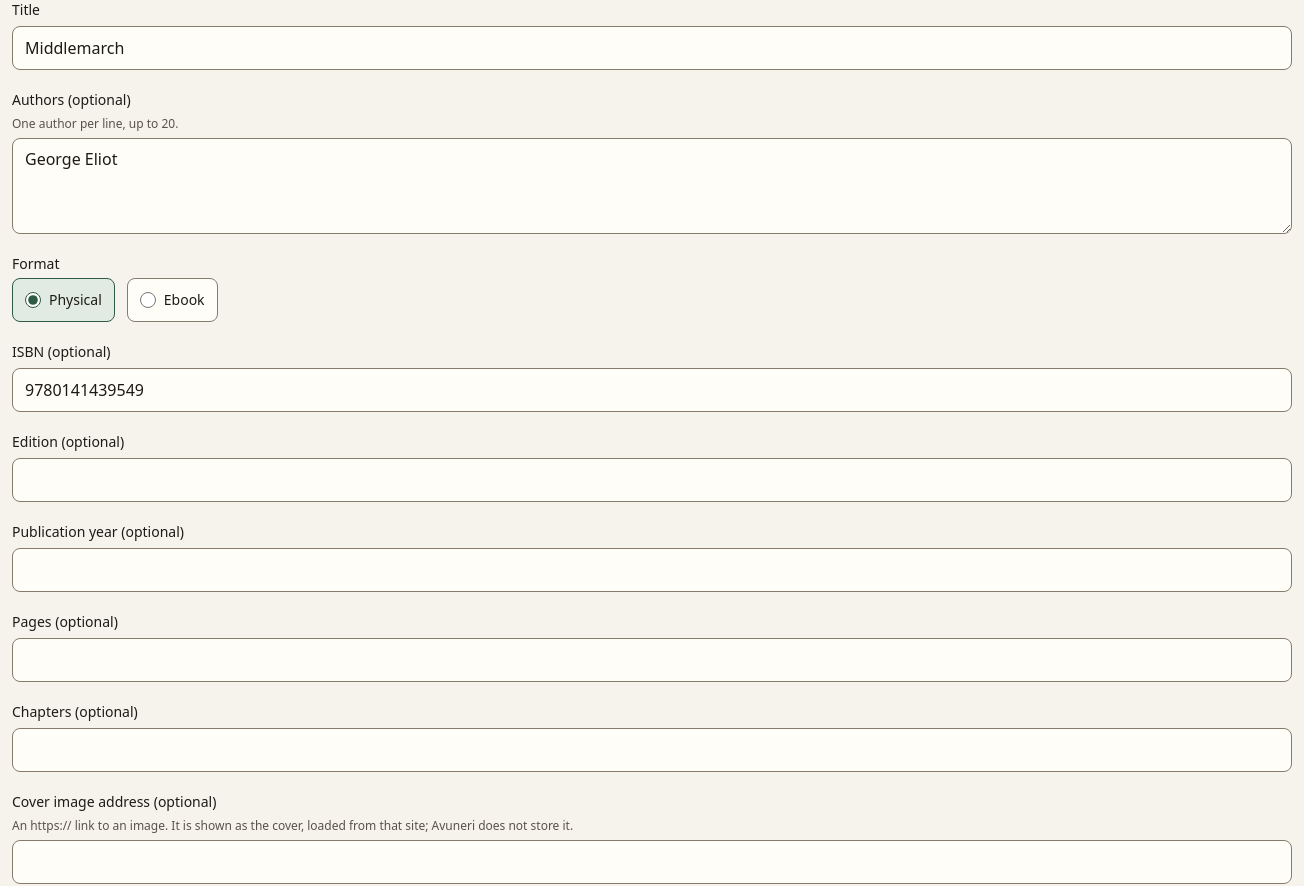
Test case: BookForm › clears a field with null and keeps edits through a format conflict
Clear the field labelled "ISBN (optional)": (652, 390) [12,368,1292,412]
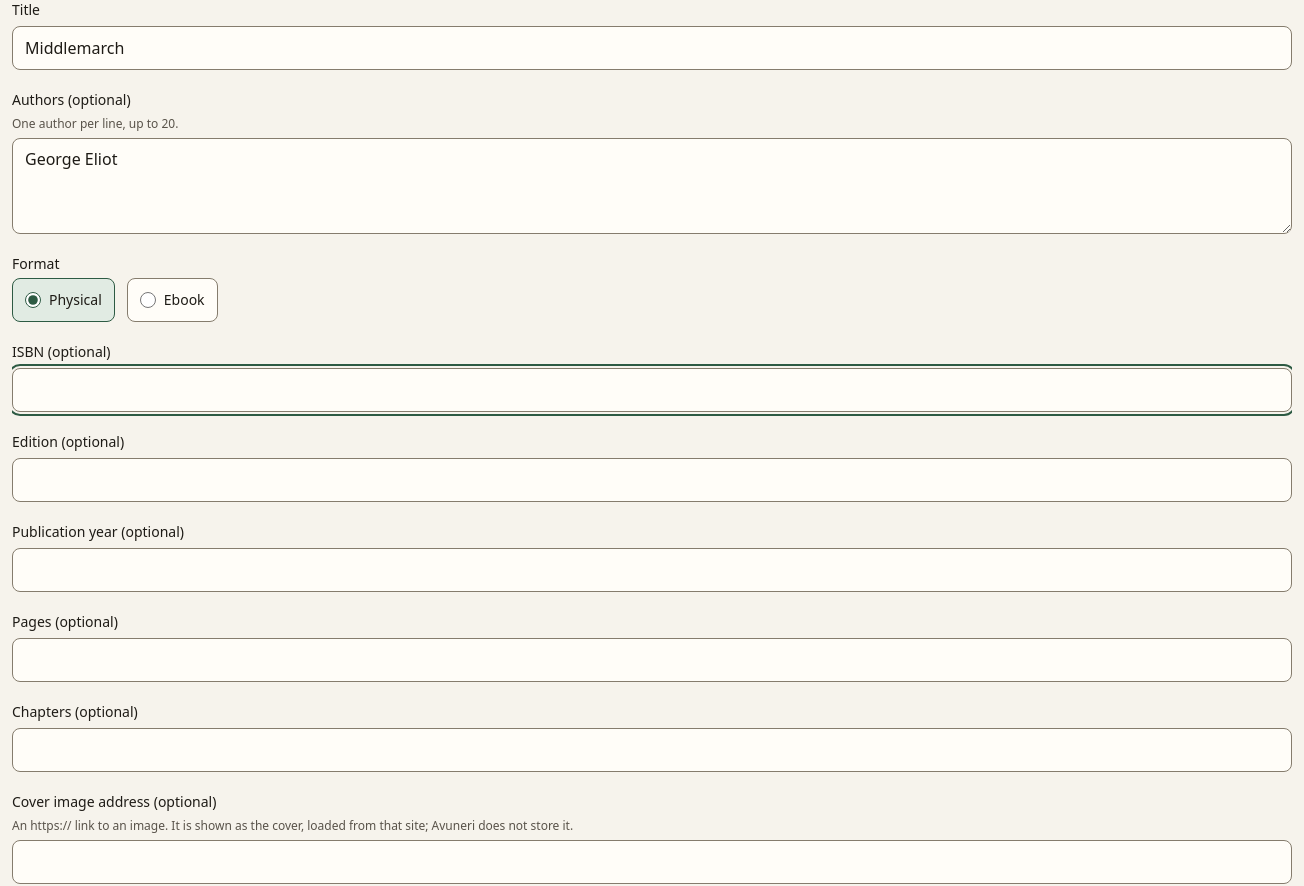
In the field labelled "Edition (optional)": (652, 480) [12,458,1292,502], type "Penguin"
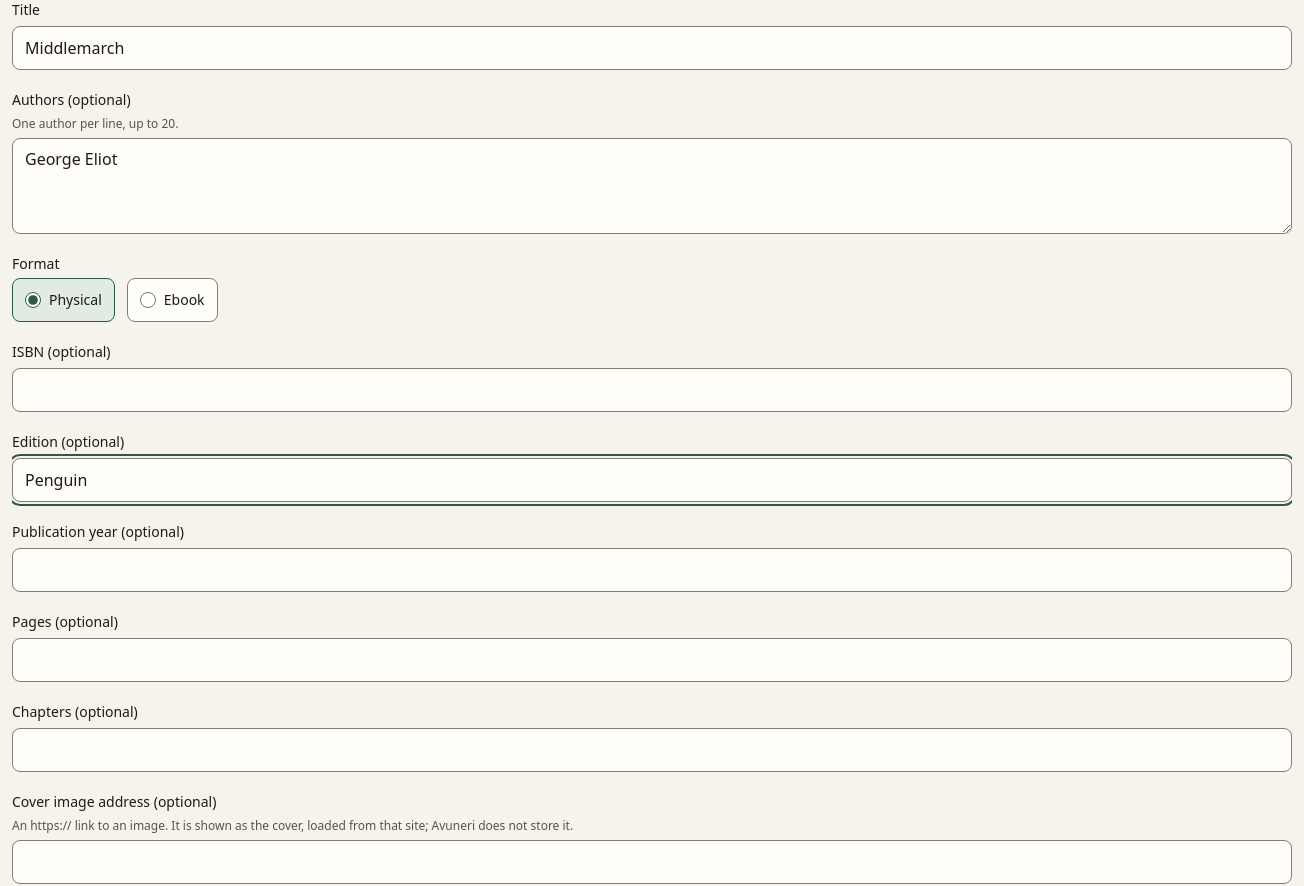
Click the radio button labelled "Ebook": click(148, 300) [140,292,156,308]
(page scrolled)
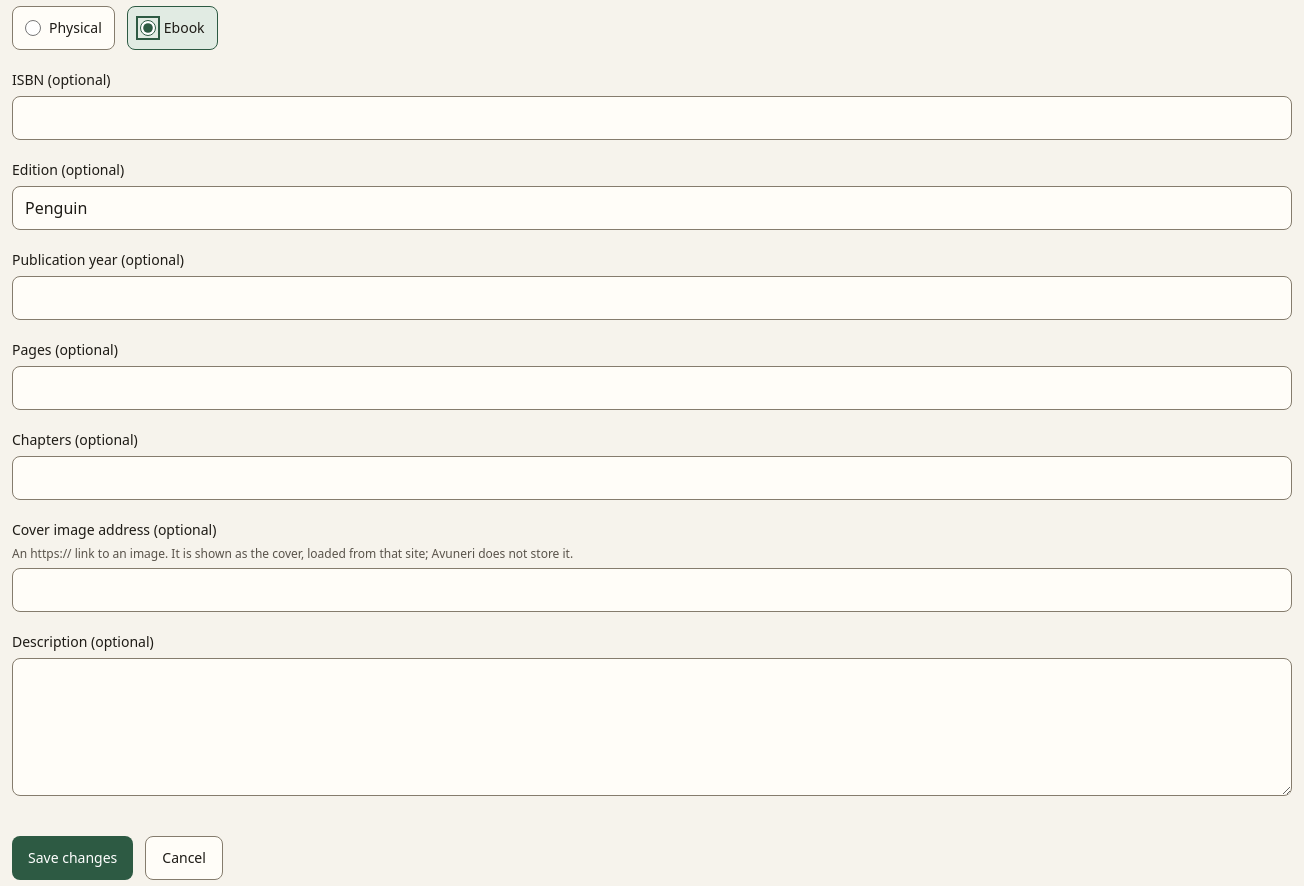
Click the button "Save changes": click(73, 858) [12,836,133,880]
(page scrolled)
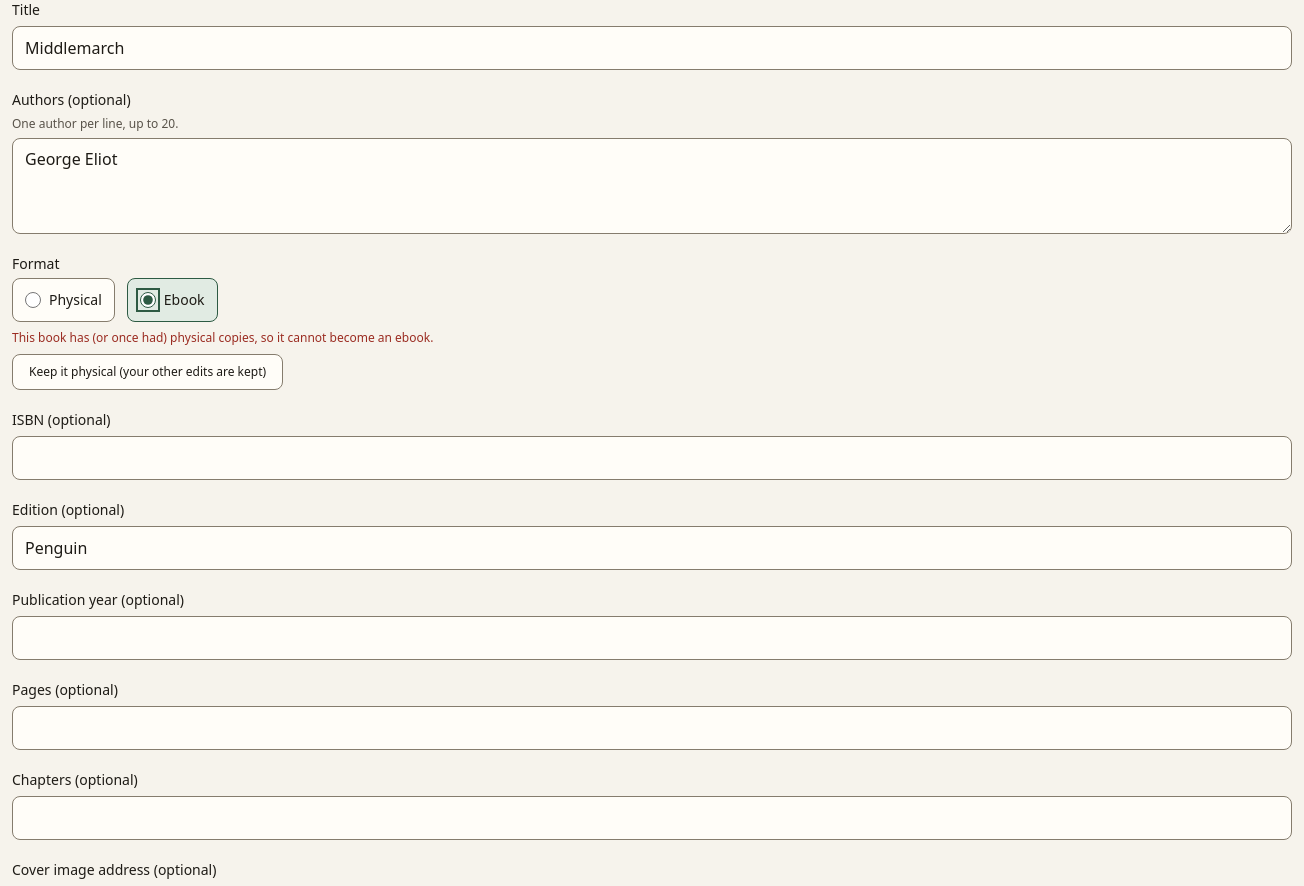
Now the text "cannot become an ebook" is shown, box [12,329,433,346]
Click the button "Keep it physical (your other edits are kept)": click(148, 372) [12,354,283,390]
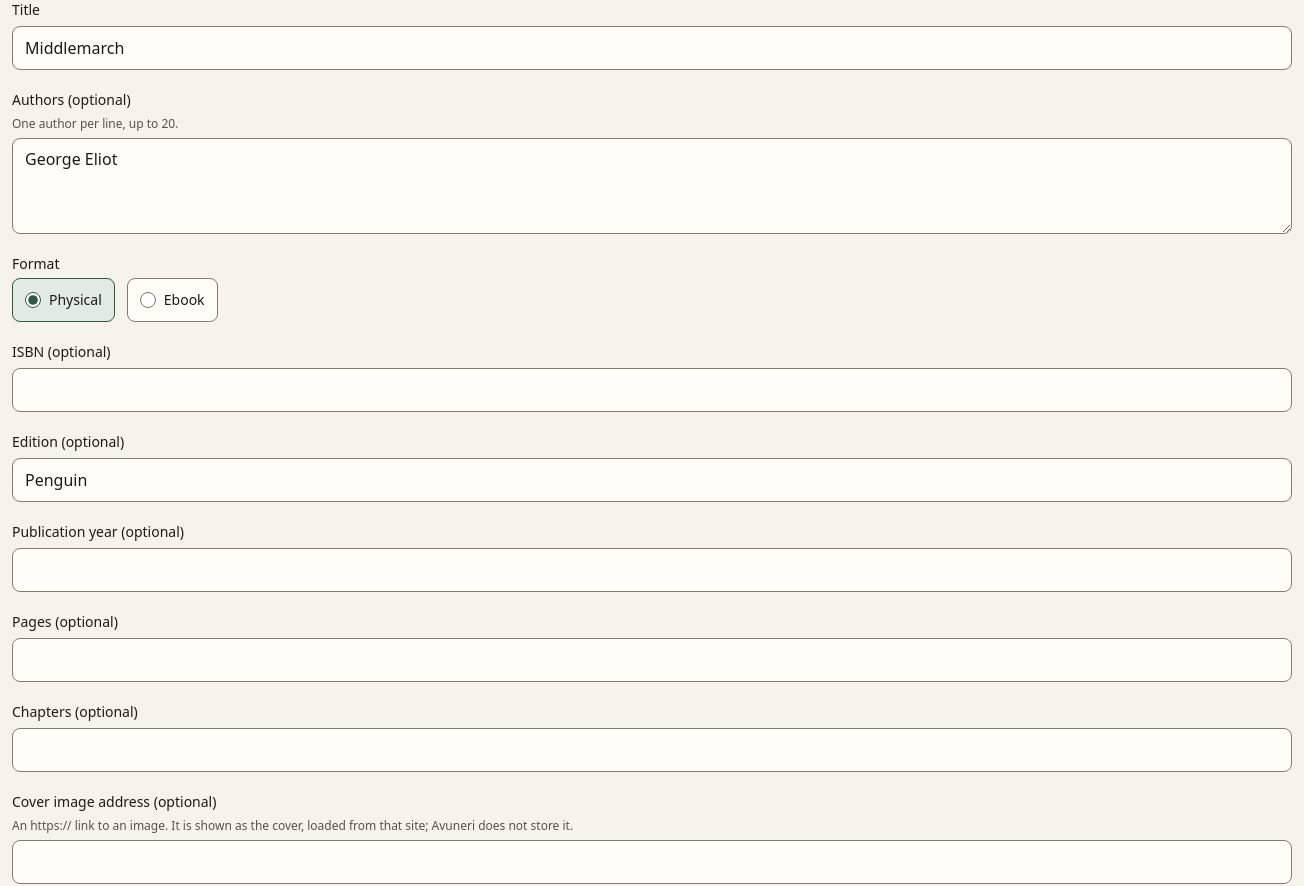
Now the radio button labelled "Physical" is checked, box [25,292,41,308]
